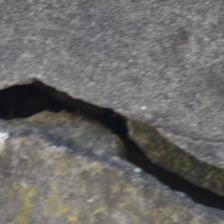Crack: (1, 38, 220, 176)
